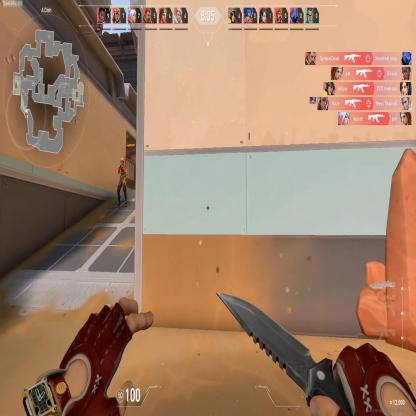enemy: (115, 153, 129, 209)
